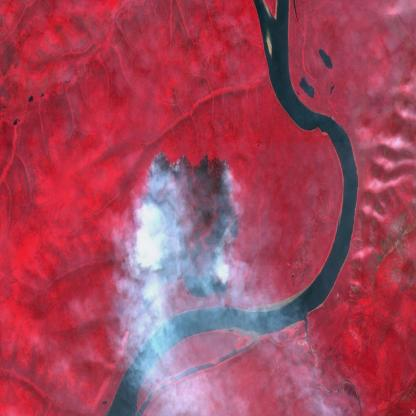fire: (137, 148, 239, 176)
